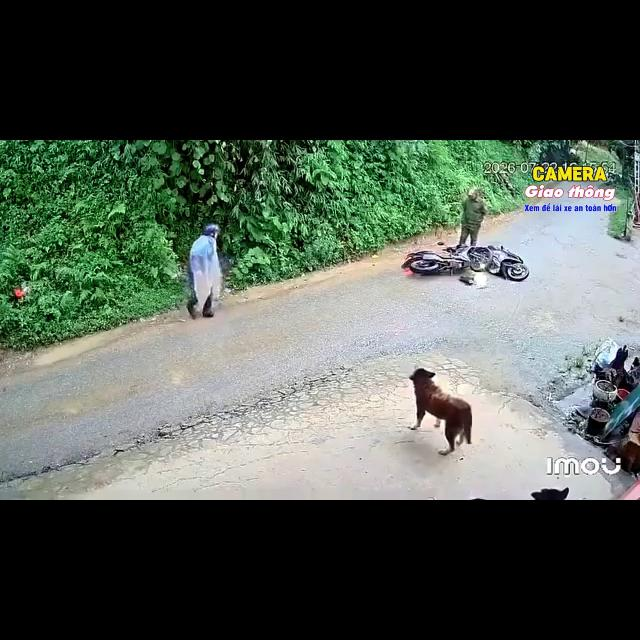motorcycle: (401, 245, 529, 281), (469, 245, 529, 281), (401, 246, 469, 274)
